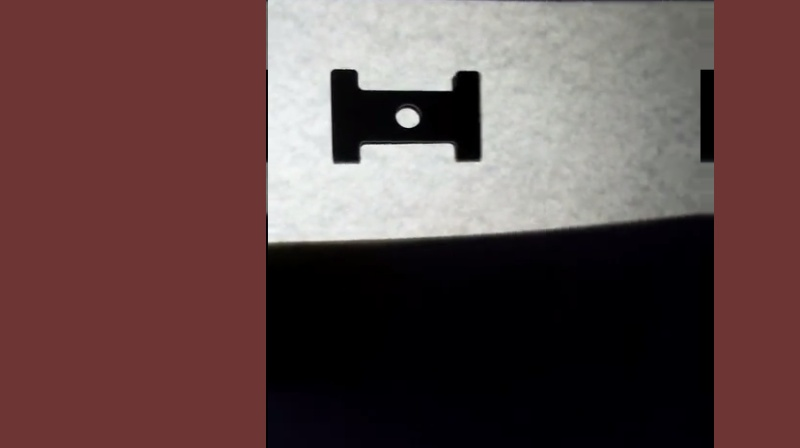O002: (321, 63, 487, 169)
